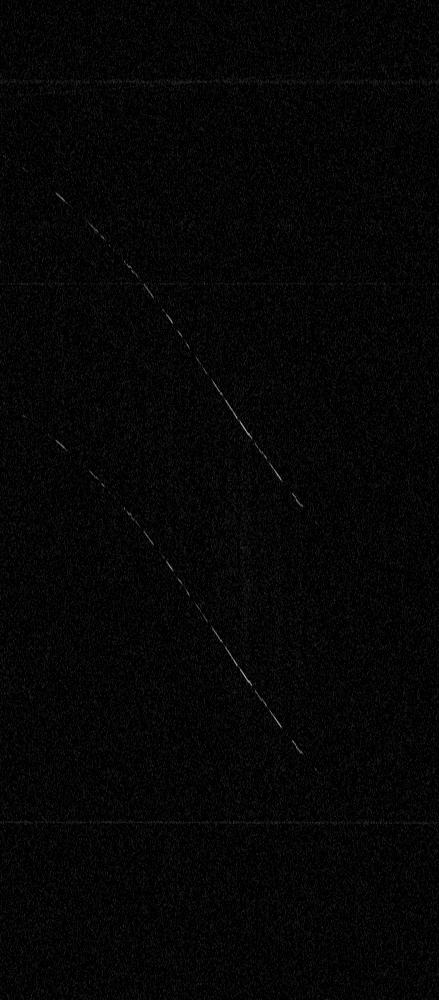signal: (0, 0, 438, 999)
